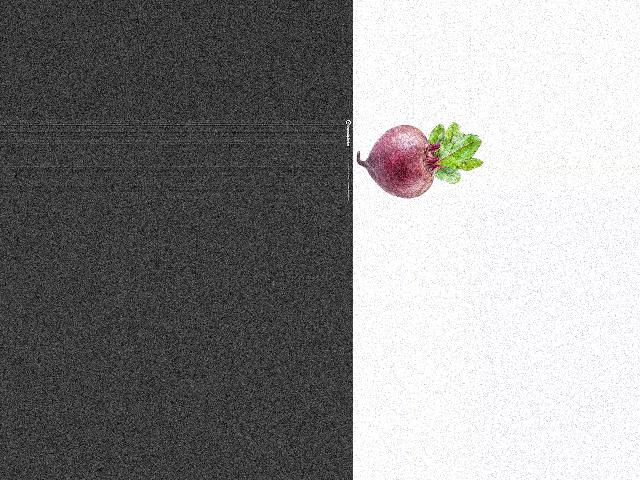beet: (357, 122, 483, 199)
